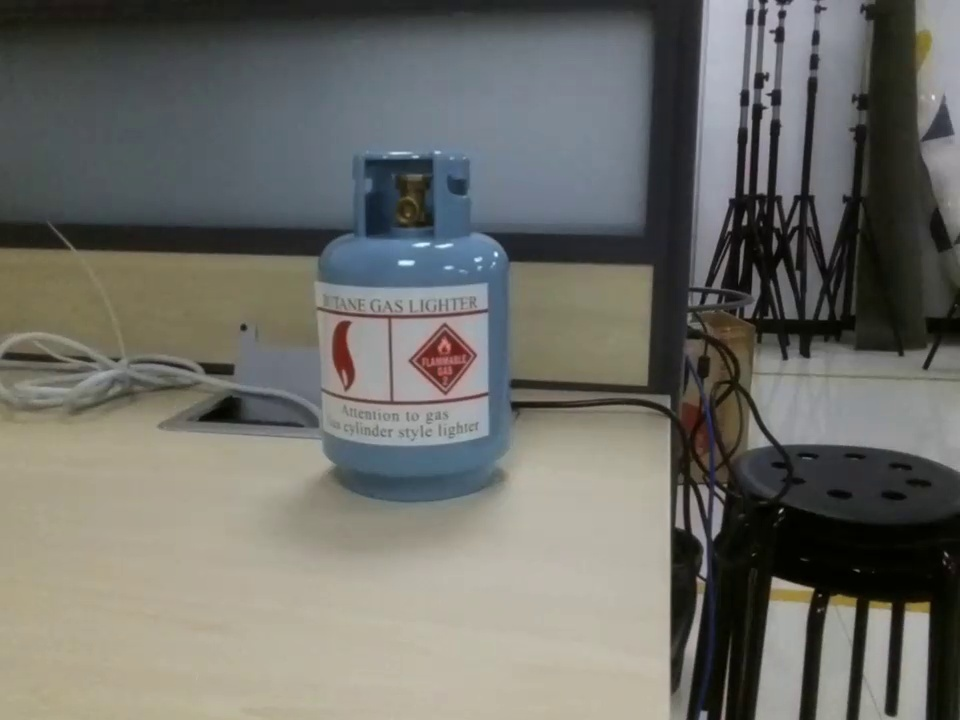gas tank: (308, 145, 516, 510)
